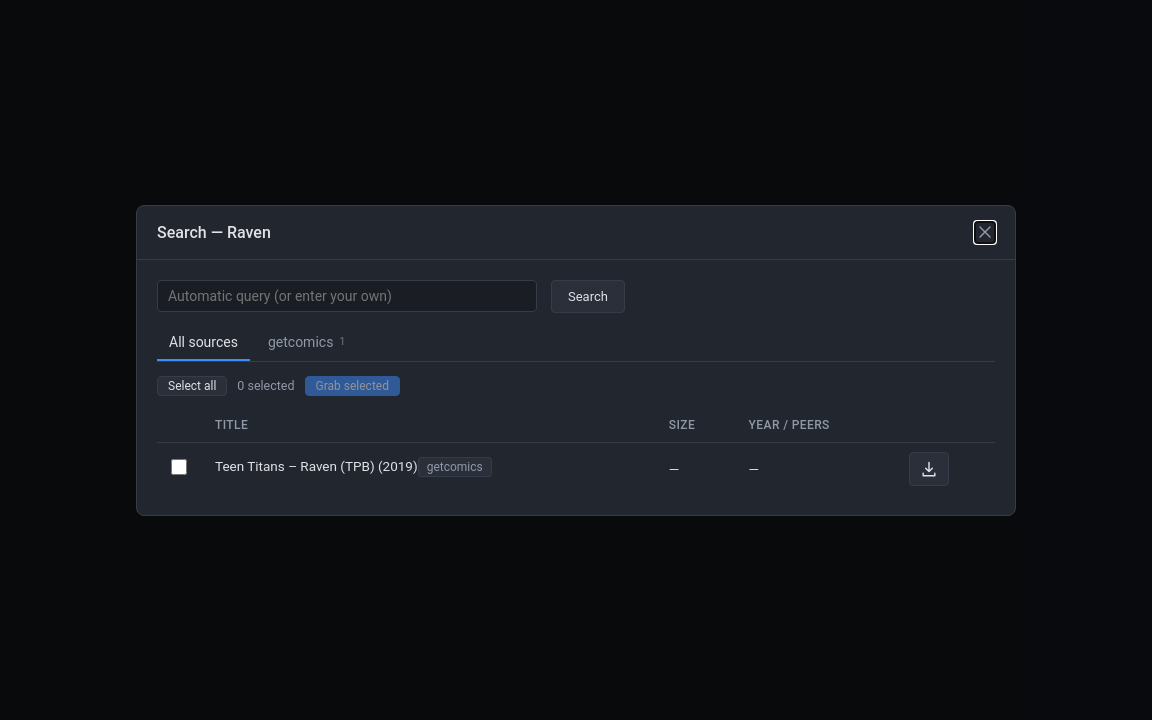
it: a rejected DDL grab shows its error and keeps the search dialog open
The image size is (1152, 720).
Expected: the text "Teen Titans – Raven (TPB) (2019)" is shown, [215,458,418,474]
Click the button named "Grab" at [929, 468], box [909,452,949,486]
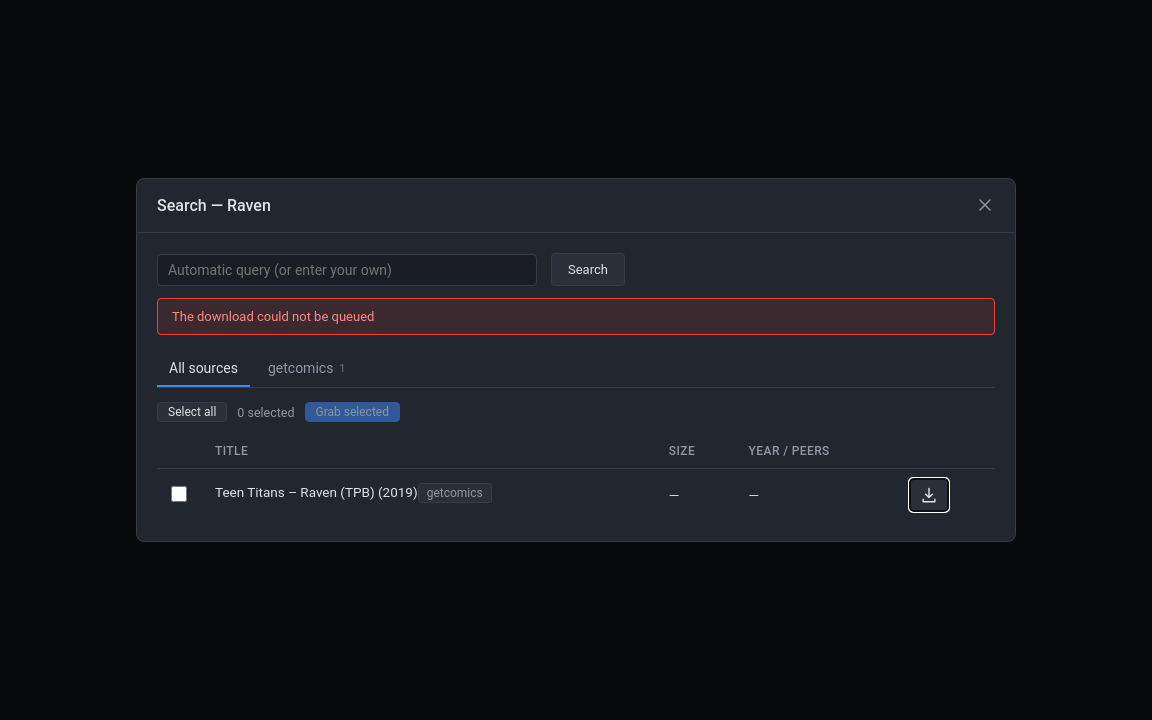
Now the message reads "The download could not be queued", box [172,309,374,324]
